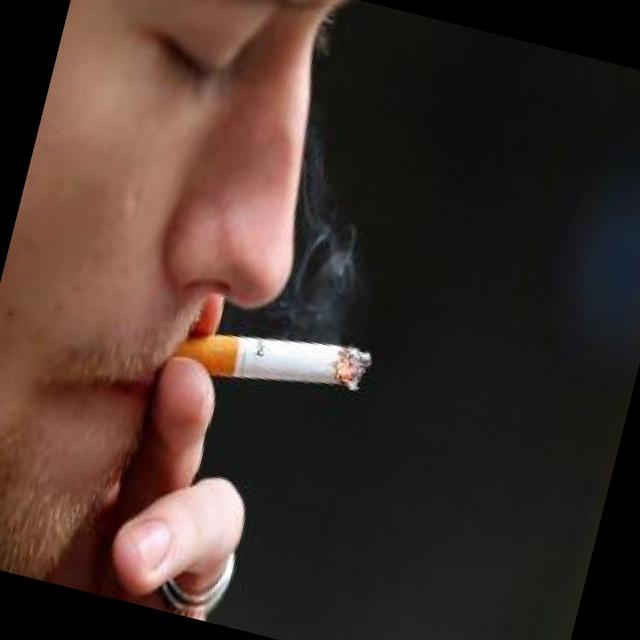smoke: (271, 162, 381, 346)
